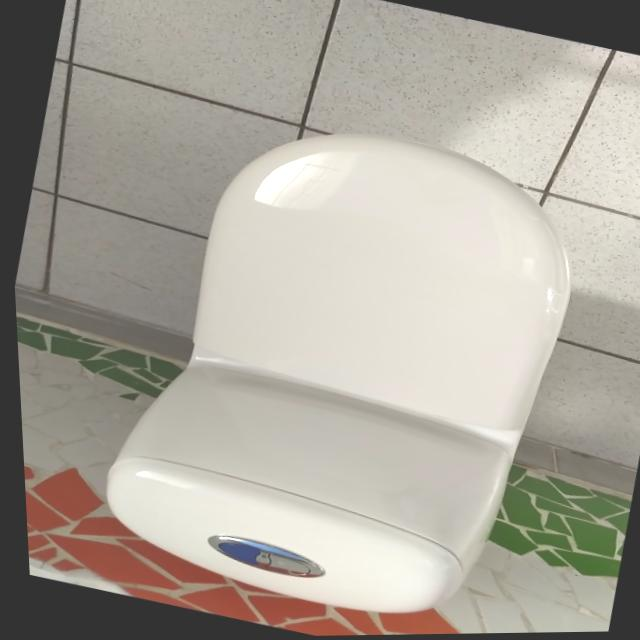toilet: (67, 84, 608, 639)
